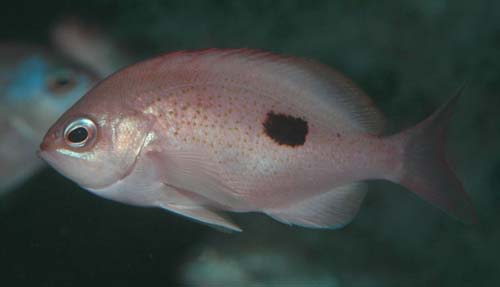fish: (38, 48, 480, 229)
